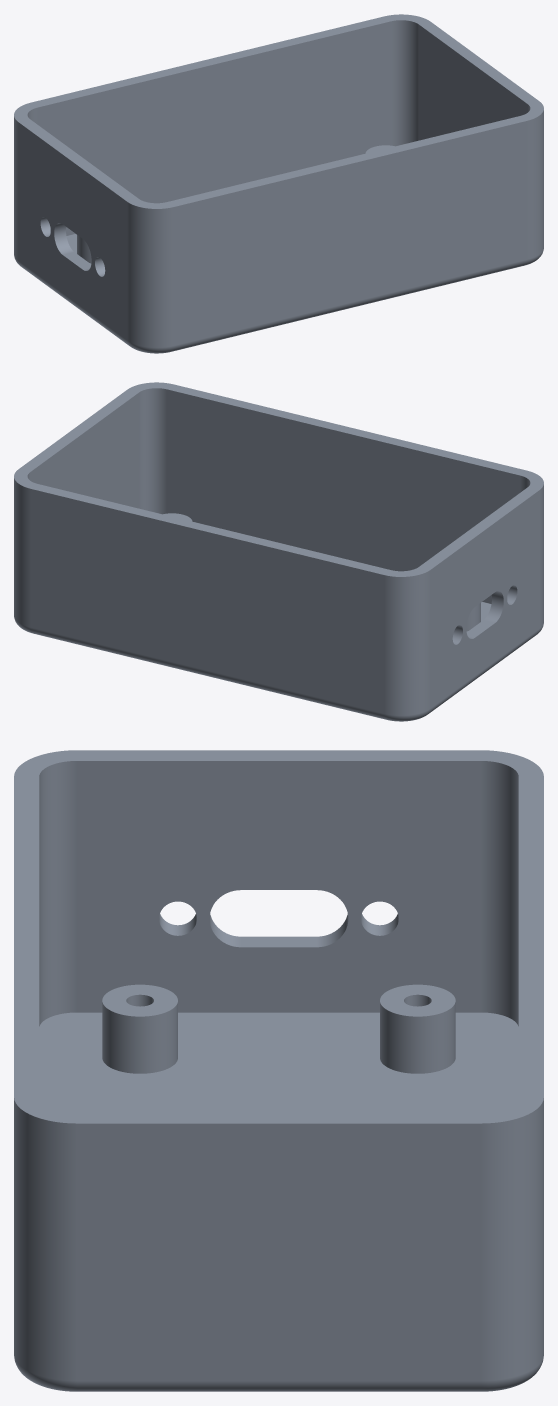
File: step-3-preview-1.glb
3 renders of one model, top to bottom at view 1: azimuth 30°, elevation 25°; view 2: azimuth 150°, elevation 25°; view 3: azimuth 270°, elevation 25°, orthographic. The views are drawn at different scales.
Visible parts, largest first — view 1: preview_12, preview_25, preview_0, preview_3, preview_23, preview_1, preview_24, preview_16, preview_27, preview_4, preview_2; view 2: preview_15, preview_21, preview_0, preview_3, preview_23, preview_4, preview_22, preview_17, preview_28, preview_1, preview_2; view 3: preview_18, preview_19, preview_32, preview_3, preview_16, preview_17, preview_20, preview_26, preview_31, preview_33, preview_35, preview_37 (+2 smaller).
Boxes of the visible parts, x1=… form: preview_12: x1=173, y1=121, x2=526, y2=345; preview_25: x1=37, y1=21, x2=390, y2=235; preview_0: x1=18, y1=122, x2=127, y2=339; preview_3: x1=14, y1=14, x2=543, y2=208; preview_23: x1=419, y1=25, x2=527, y2=140; preview_1: x1=127, y1=202, x2=173, y2=347; preview_24: x1=391, y1=20, x2=418, y2=146; preview_16: x1=527, y1=110, x2=543, y2=259; preview_27: x1=172, y1=259, x2=526, y2=351; preview_4: x1=14, y1=116, x2=18, y2=260; preview_2: x1=18, y1=261, x2=128, y2=345; preview_15: x1=31, y1=489, x2=384, y2=713; preview_21: x1=167, y1=389, x2=520, y2=603; preview_0: x1=430, y1=490, x2=539, y2=707; preview_3: x1=14, y1=382, x2=543, y2=576; preview_23: x1=30, y1=393, x2=138, y2=508; preview_4: x1=384, y1=570, x2=430, y2=715; preview_22: x1=139, y1=388, x2=166, y2=514; preview_17: x1=14, y1=478, x2=30, y2=627; preview_28: x1=31, y1=627, x2=385, y2=719; preview_1: x1=539, y1=484, x2=543, y2=628; preview_2: x1=429, y1=629, x2=539, y2=713; preview_18: x1=77, y1=1123, x2=480, y2=1380; preview_19: x1=77, y1=761, x2=480, y2=1012; preview_32: x1=39, y1=1012, x2=518, y2=1112; preview_3: x1=14, y1=750, x2=543, y2=1123; preview_16: x1=14, y1=1098, x2=76, y2=1380; preview_17: x1=481, y1=1098, x2=543, y2=1380; preview_20: x1=39, y1=761, x2=76, y2=1026; preview_26: x1=481, y1=761, x2=518, y2=1026; preview_31: x1=77, y1=1381, x2=480, y2=1391; preview_33: x1=102, y1=1002, x2=177, y2=1073; preview_35: x1=380, y1=1002, x2=455, y2=1073; preview_37: x1=102, y1=984, x2=177, y2=1016.
Bounding box in the file's own units: 0.07 × 0.024 × 0.042.
